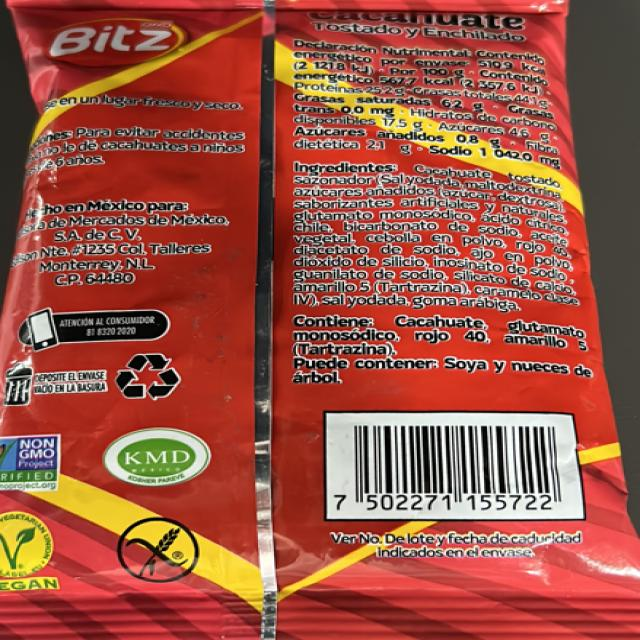productoAtras: (38, 0, 579, 640)
